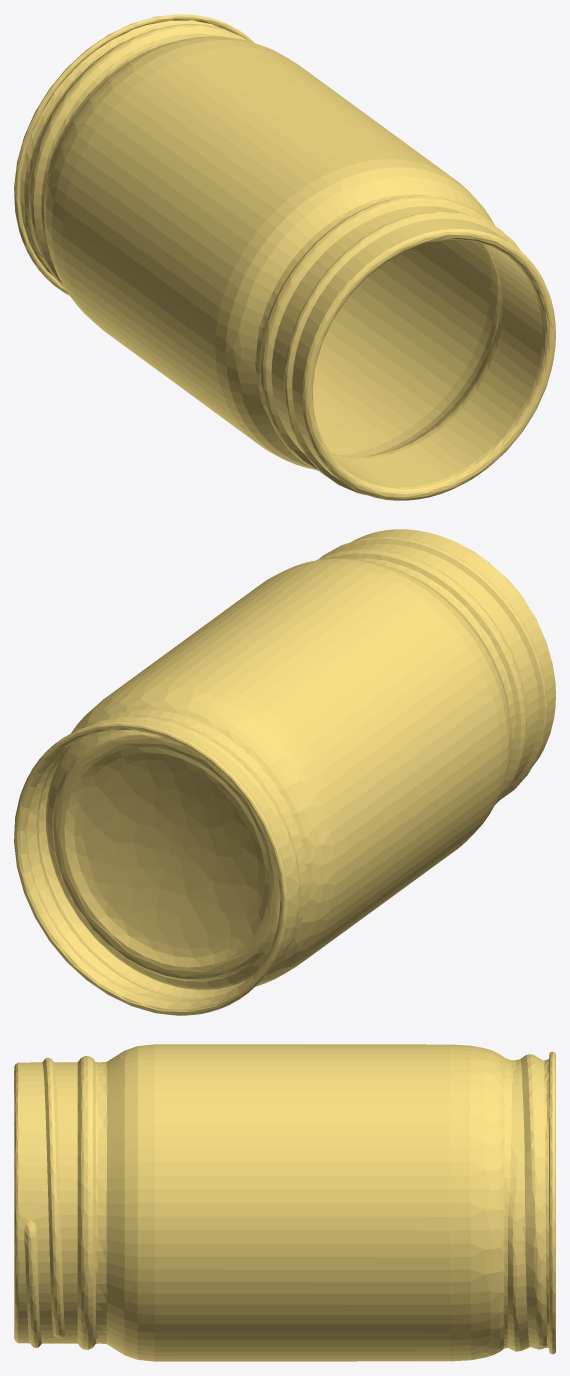
Rendered from nvidia_gold_vessel.glb.
3 views of the same model, one above another, from view 1: azimuth 30°, elevation 25°; view 2: azimuth 150°, elevation 25°; view 3: azimuth 270°, elevation 25° (orthographic). The views are drawn at different scales.
Parts seen in each view (by area): view 1: jar_01_mesh_00, lid_01_mesh_00; view 2: jar_01_mesh_00, lid_01_mesh_00; view 3: jar_01_mesh_00, lid_01_mesh_00.
Boxes of the visible parts, x1,y1,x2,y2 form: jar_01_mesh_00: (44,36,555,500); lid_01_mesh_00: (14,14,254,295); jar_01_mesh_00: (46,529,555,989); lid_01_mesh_00: (14,710,307,1015); jar_01_mesh_00: (14,1044,505,1361); lid_01_mesh_00: (504,1051,555,1354).
Bounding box in the file's own units: 0.7485 × 0.7498 × 1.28.
